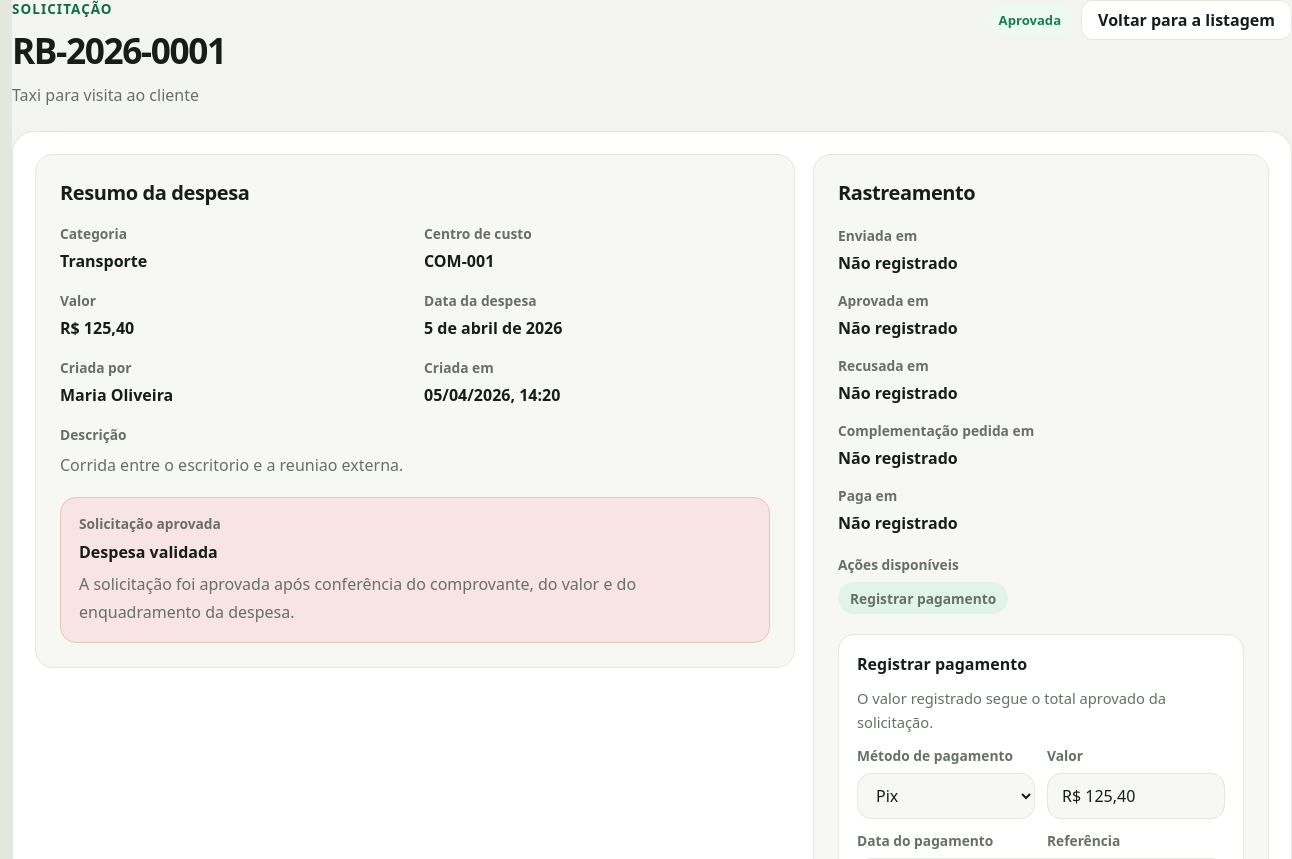
Test: ReimbursementDetailView › deve registrar pagamento com os dados informados
This screenshot has width=1292, height=859.
Expected: the heading "RB-2026-0001" is shown, top-left (12, 26), bottom-right (226, 74)
Select "Transferência bancária" in the dropdown labelled "Método de pagamento": coordinates (946, 796) top-left (857, 773), bottom-right (1035, 819)
(page scrolled)
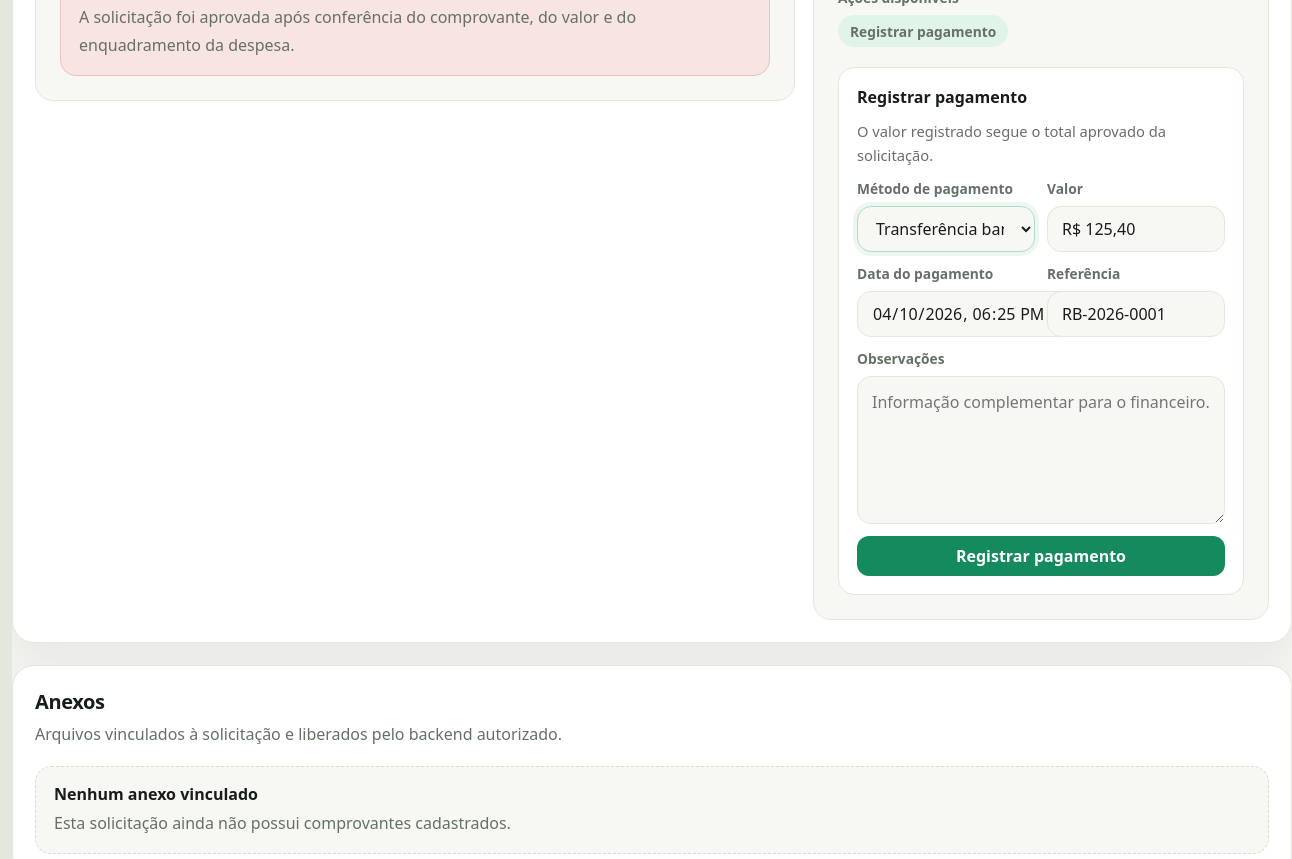
In the text box labelled "Observações": coordinates (1041, 450) top-left (857, 376), bottom-right (1225, 524), type "Pagamento confirmado pelo financeiro."
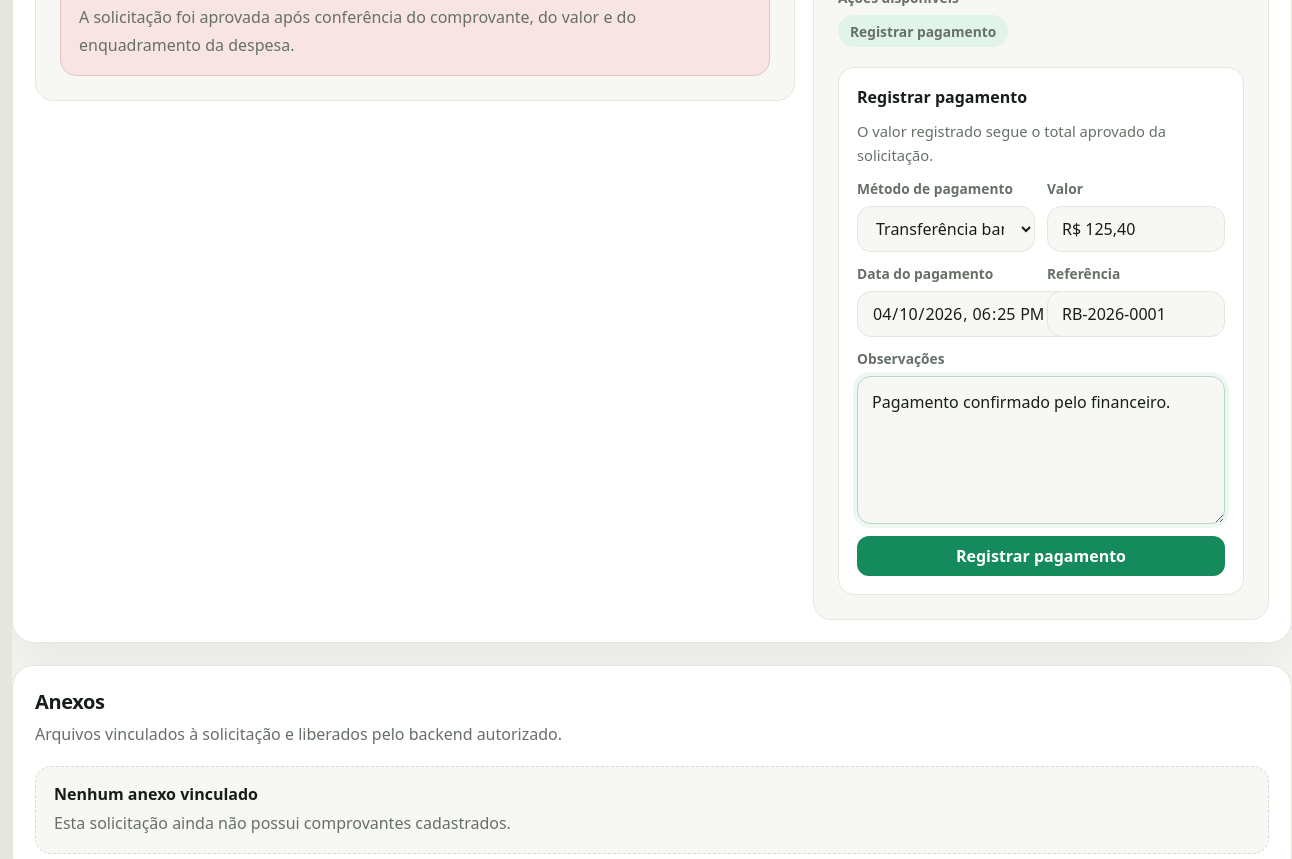
Click the button "Registrar pagamento": coordinates (1041, 556) top-left (857, 536), bottom-right (1225, 576)
(page scrolled)
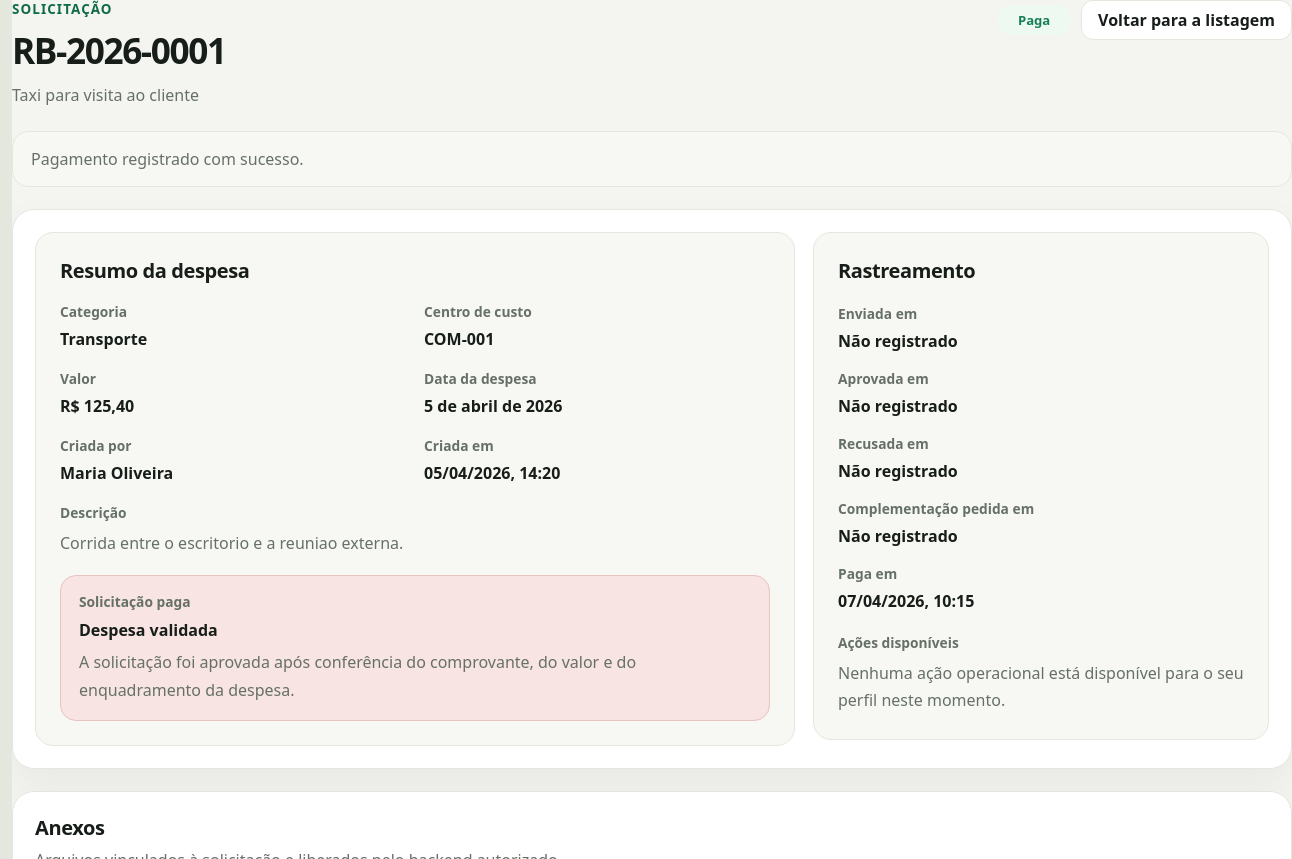
Result: the text "Pagamento registrado com sucesso." is shown at top-left (12, 131), bottom-right (1291, 187)
